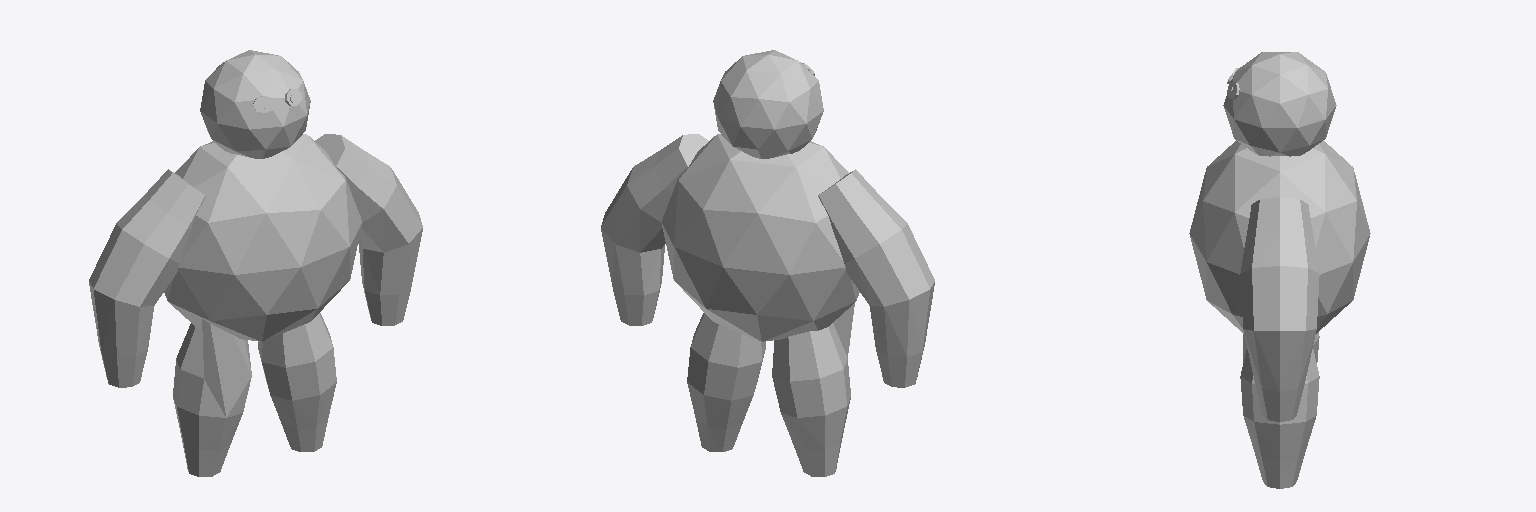
Rendered from bigboi_rigged_000005.obj.
3 views of the same model, side by side, from view 1: azimuth 30°, elevation 25°; view 2: azimuth 150°, elevation 25°; view 3: azimuth 270°, elevation 25° (orthographic).
Parts seen in each view (by area): view 1: Cube; view 2: Cube; view 3: Cube.
Boxes of the visible parts, box(x1,y1,x2,y2) form: Cube: box(89, 50, 422, 476); Cube: box(601, 50, 934, 476); Cube: box(1189, 52, 1370, 488).
Size of the model in its own units: 6.63 by 7.86 by 3.2.